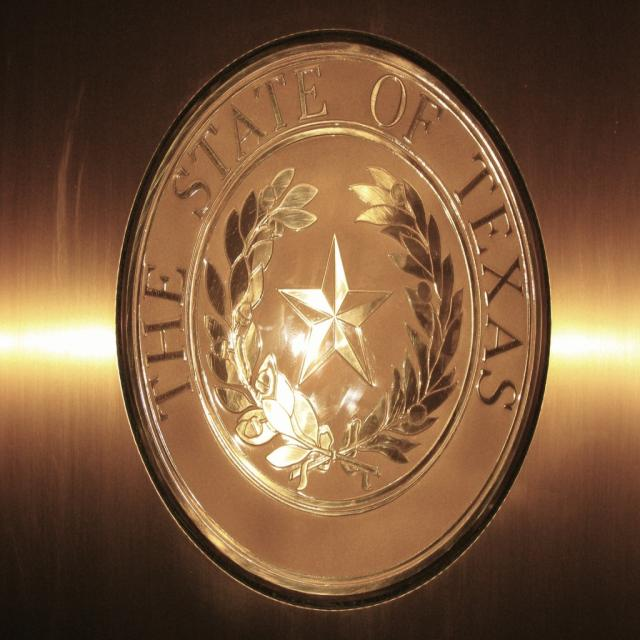Coin: (116, 27, 552, 613)
